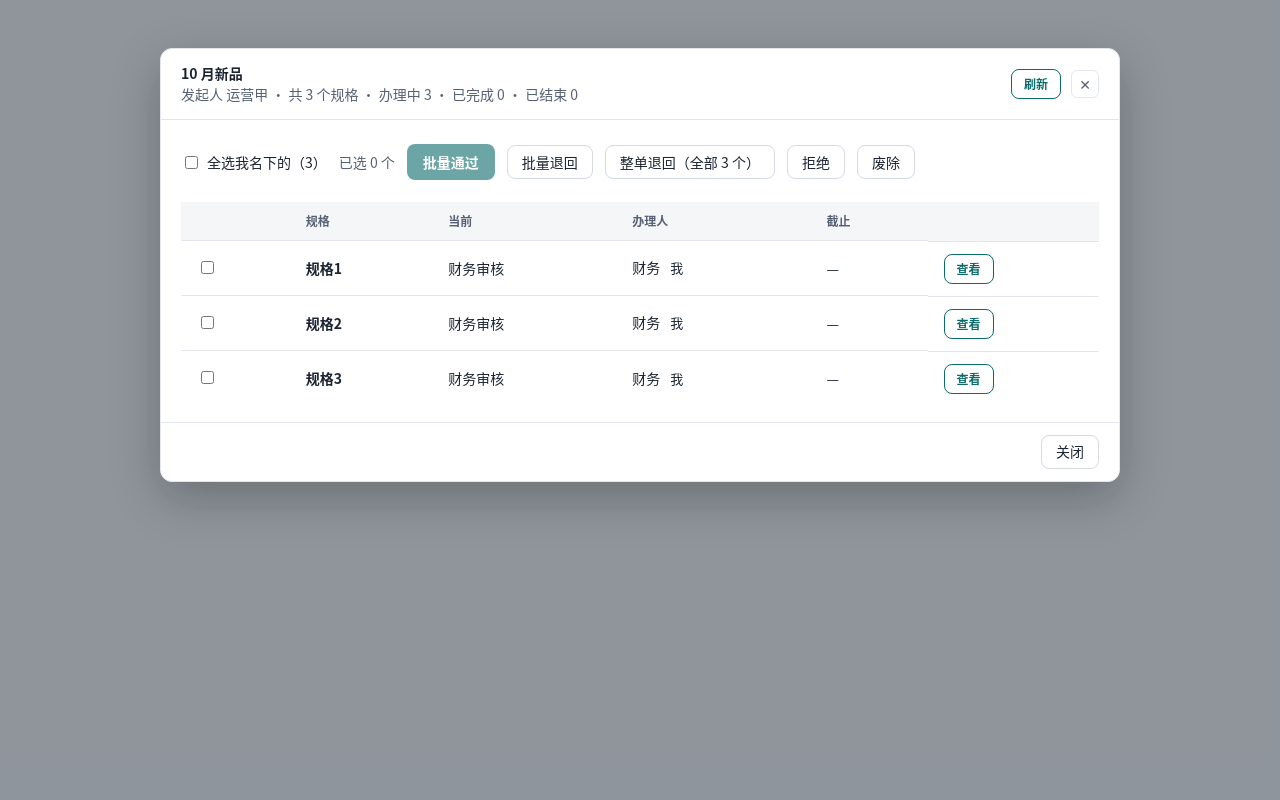
SKU 申请汇总面板 › 整单退回：只在全部规格都是自己的待办时出现，带上全部规格的版本号
Click the button "整单退回（全部 3 个）" at (690, 162), box [605,145,775,179]
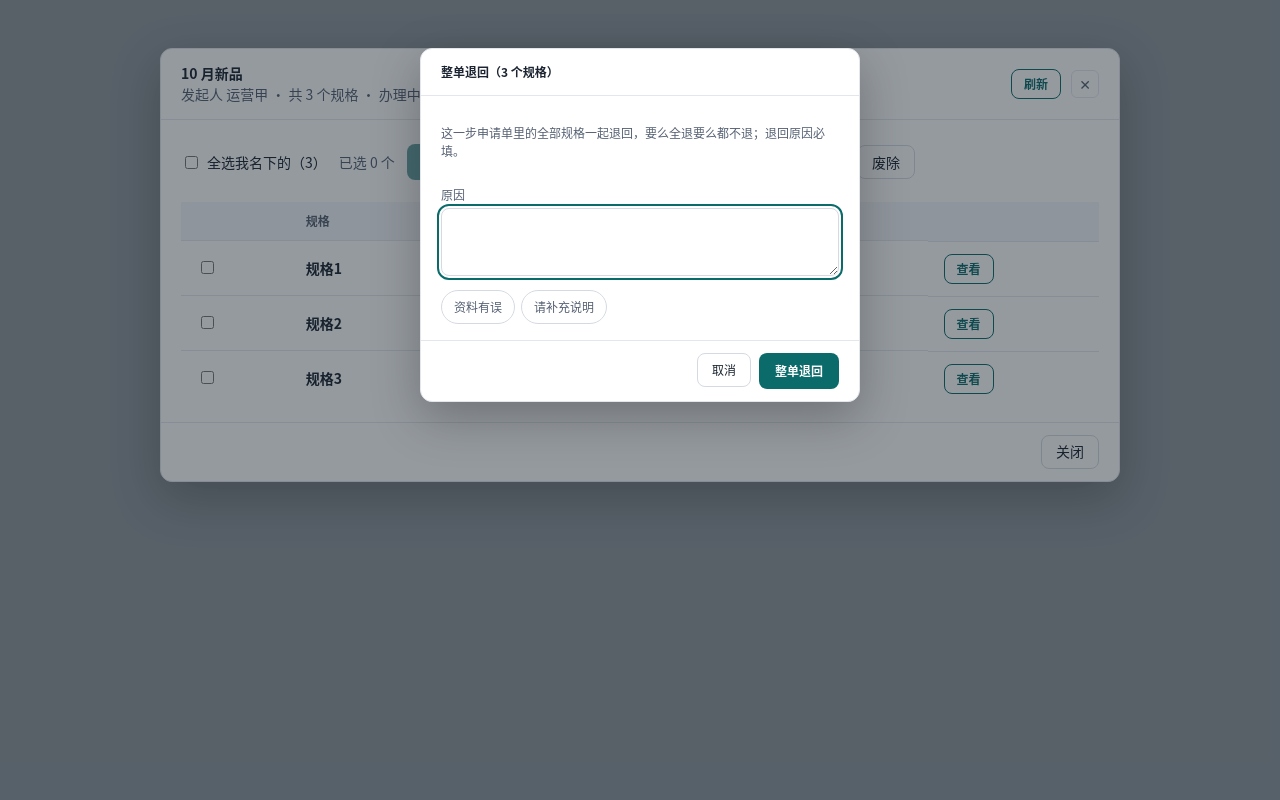
Type "整单资料有误" into the text box at (640, 242), box [441,208,839,276]
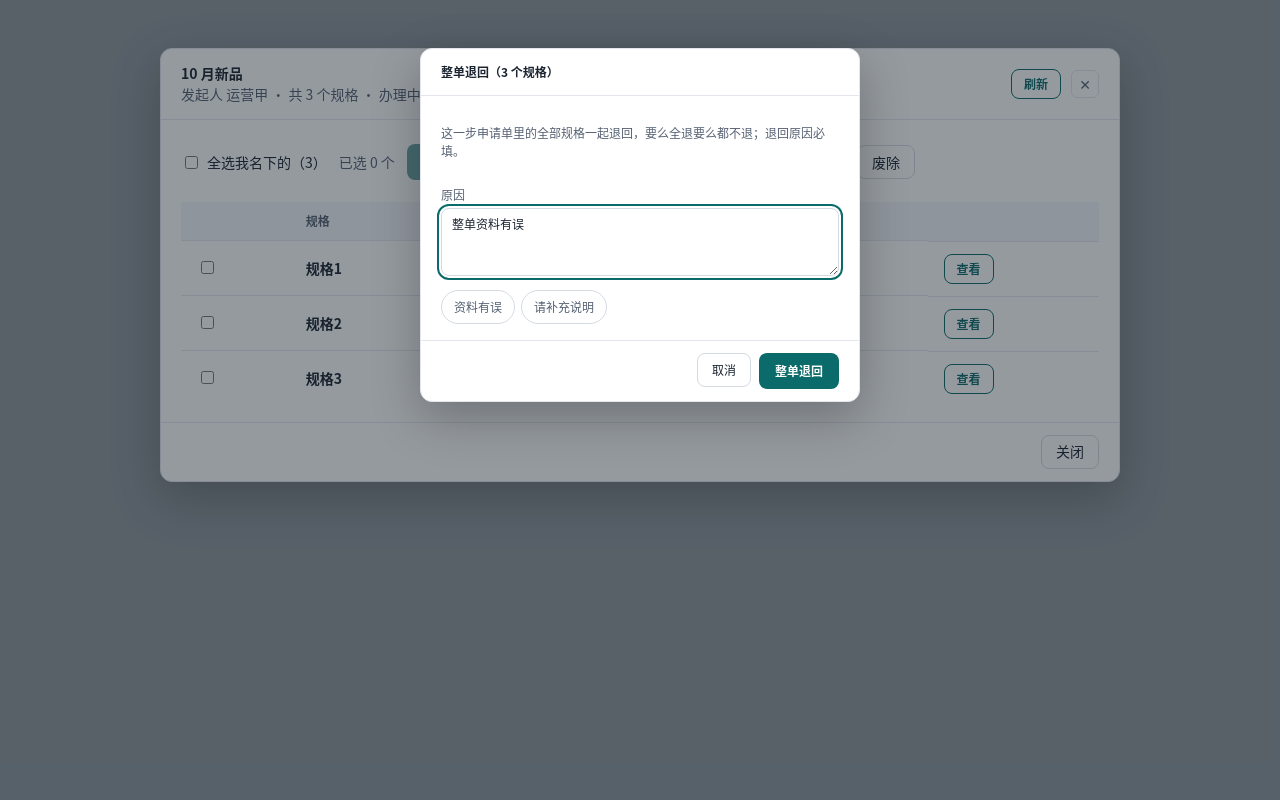
Click the button "整单退回" at (799, 371), box [759,353,839,389]
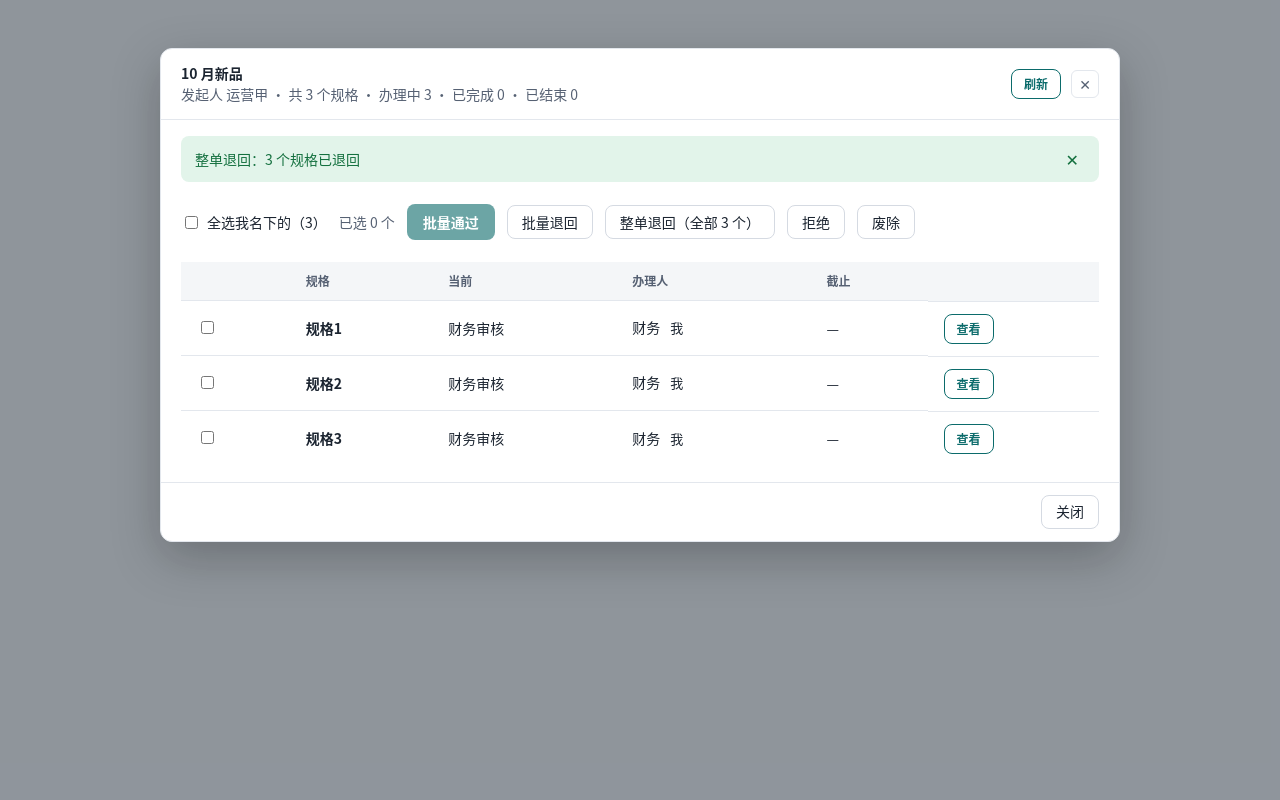
Now the text "整单退回：3 个规格已退回" is shown, box [195,148,360,170]
